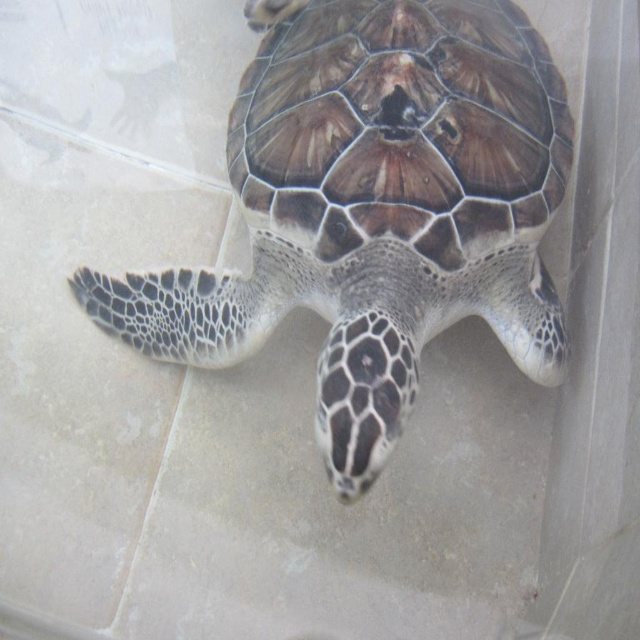Sea turtle: (69, 0, 575, 498)
